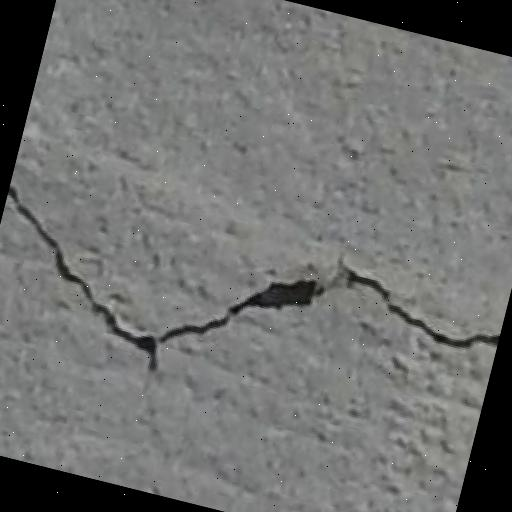spalling: (8, 182, 504, 371)
